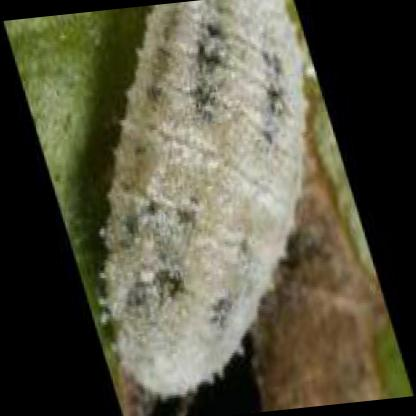mealy bug: (105, 0, 303, 396)
